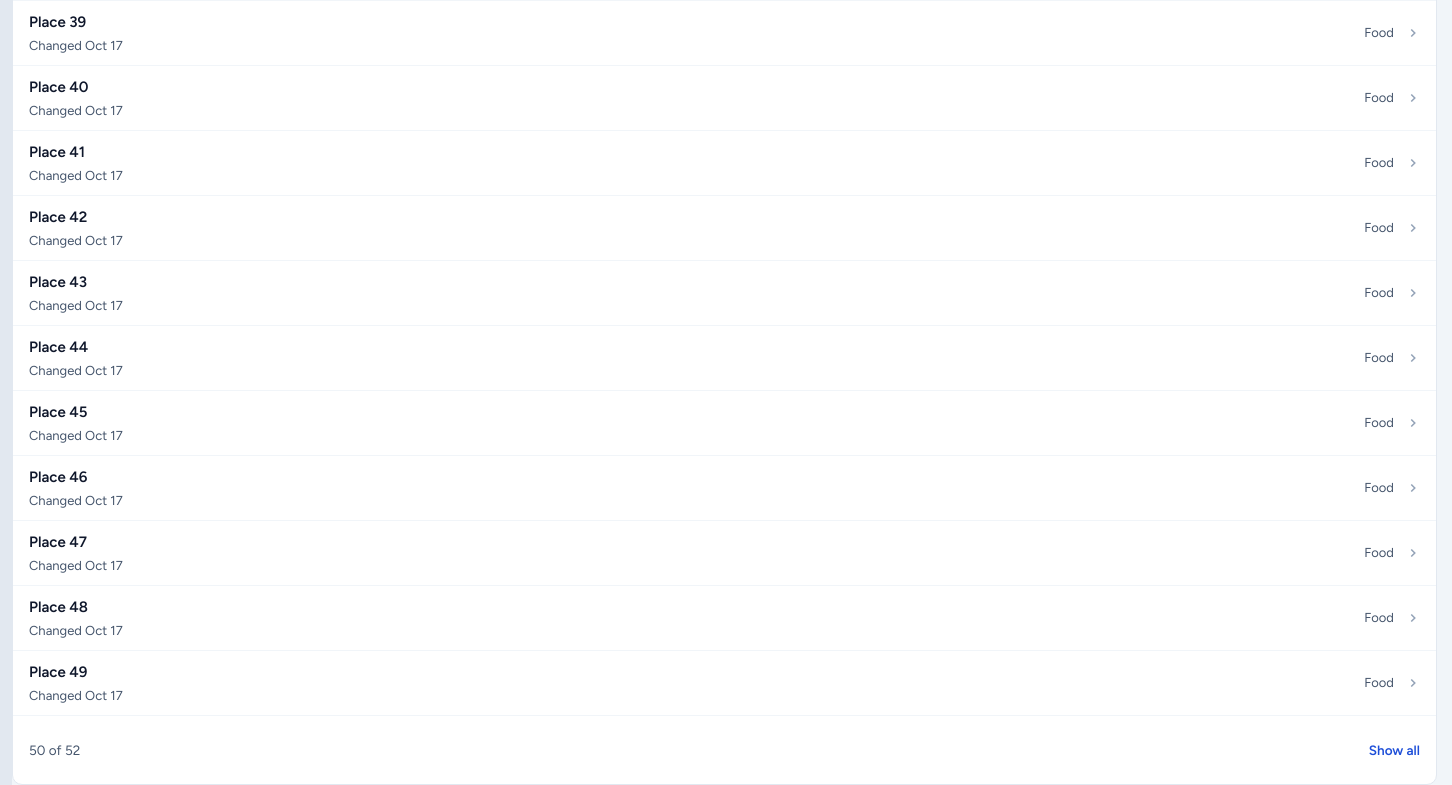
Places › shows the first 50, all of them, and folds back to 50
(page scrolled)
Expected: the text "50 of 52" is shown, 29,742 -> 80,758
Step 1. Click the button "Show all" → (1394, 750), box 1369,728 -> 1420,772
(page scrolled)
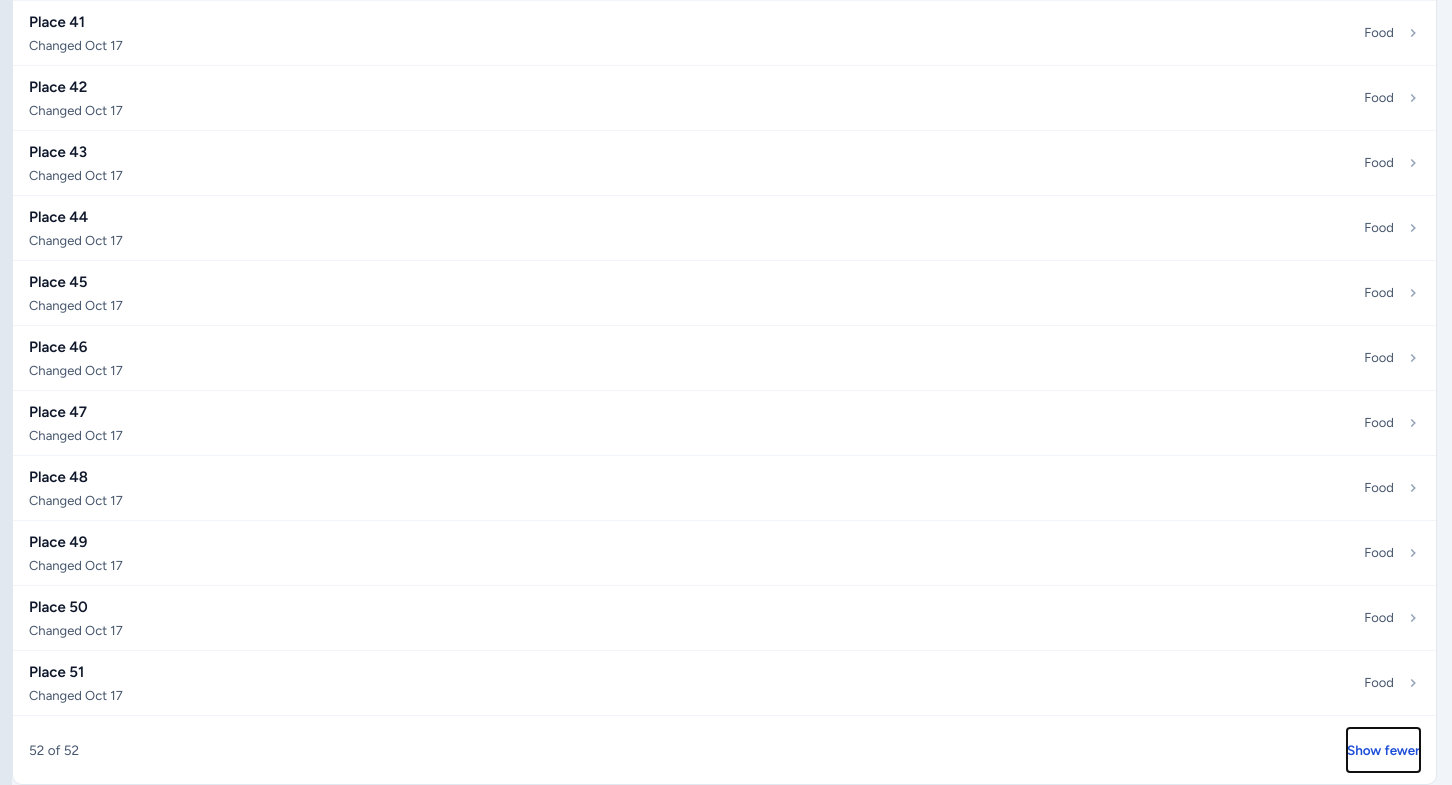
Now the text "52 of 52" is shown, box 29,742 -> 79,758
Step 2. Click the button "Show fewer" → (1383, 750), box 1347,728 -> 1420,772
(page scrolled)
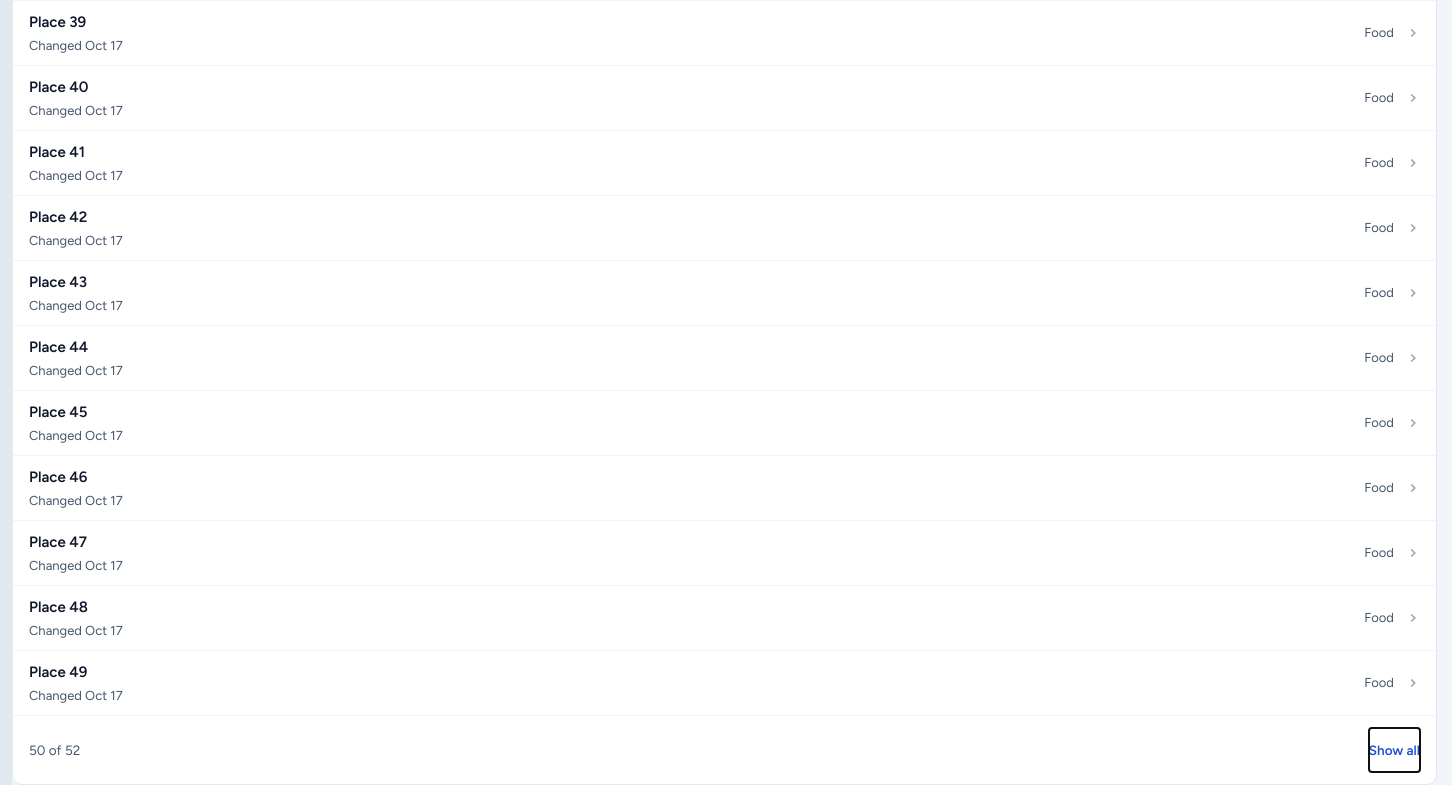
Now the text "50 of 52" is shown, box 29,742 -> 80,758
